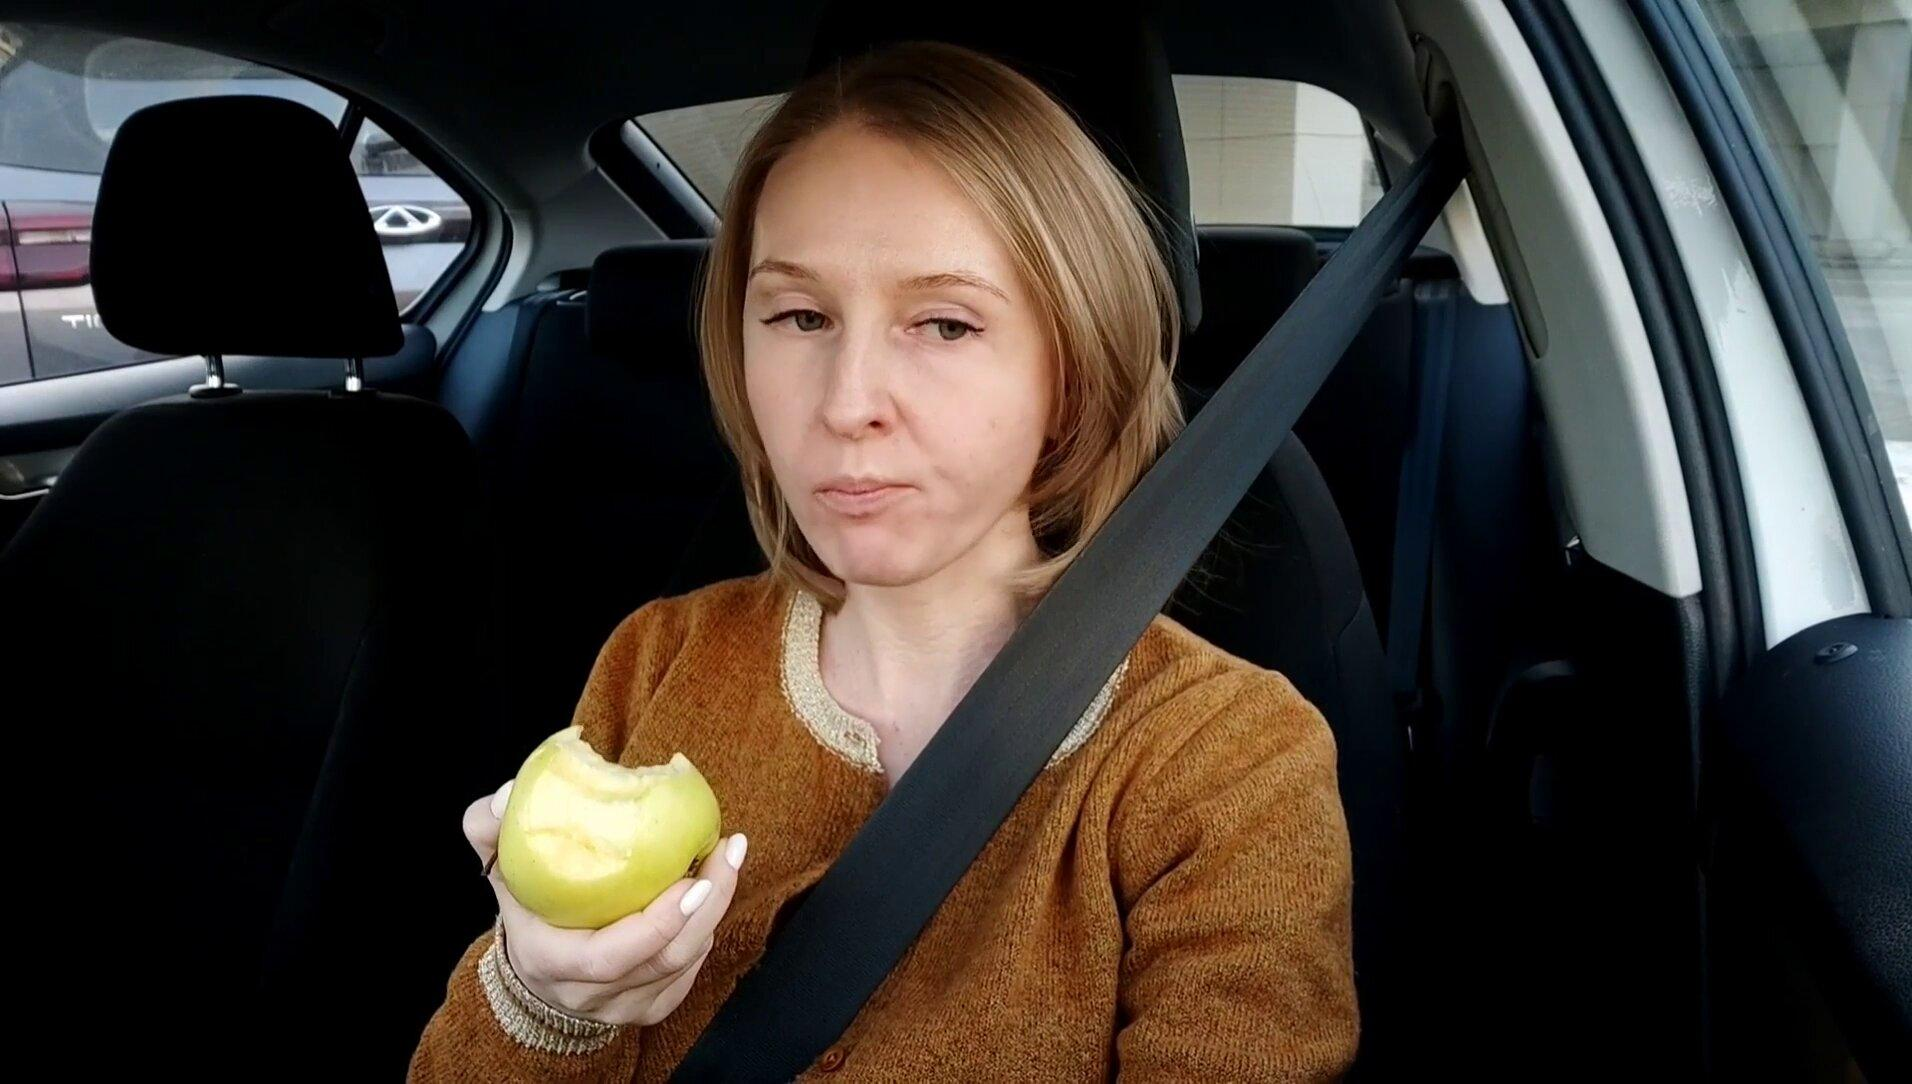Eating: (494, 715, 730, 937)
